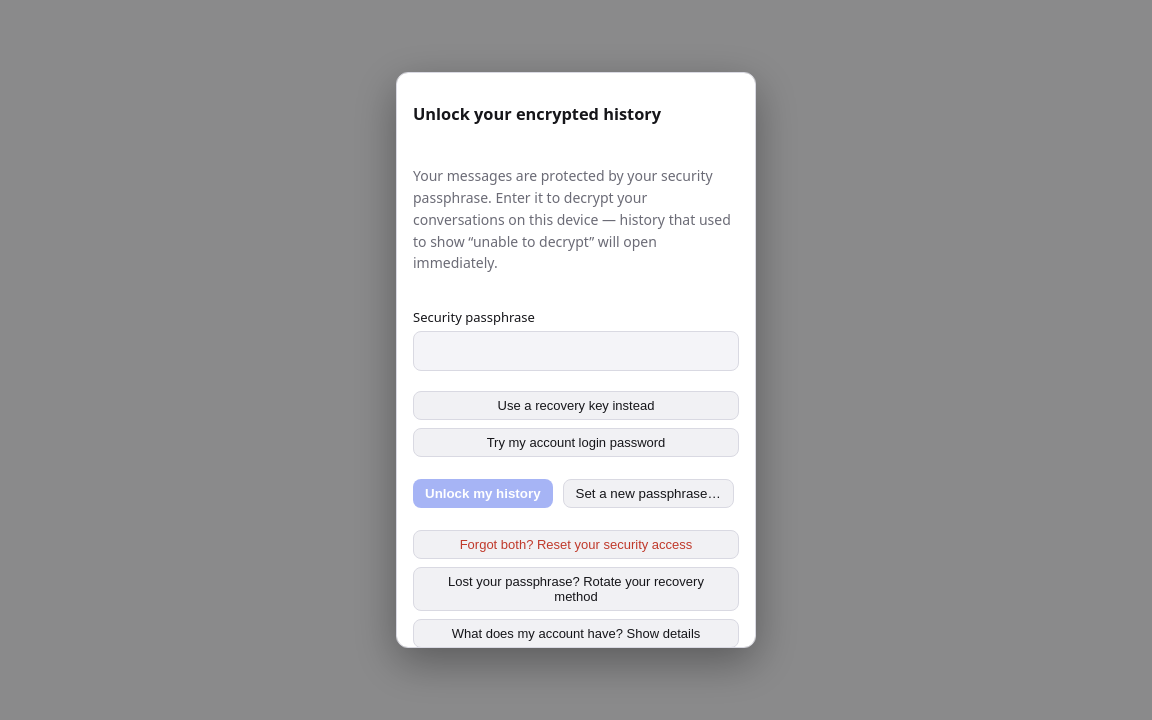
Test: W24 new-passphrase step gating › go is disabled until both fields agree and the passphrase is at least 8 chars
The width and height of the screenshot is (1152, 720).
Click the button with test id "rotate-entry".
click(576, 589)  # box 413,567 -> 739,611
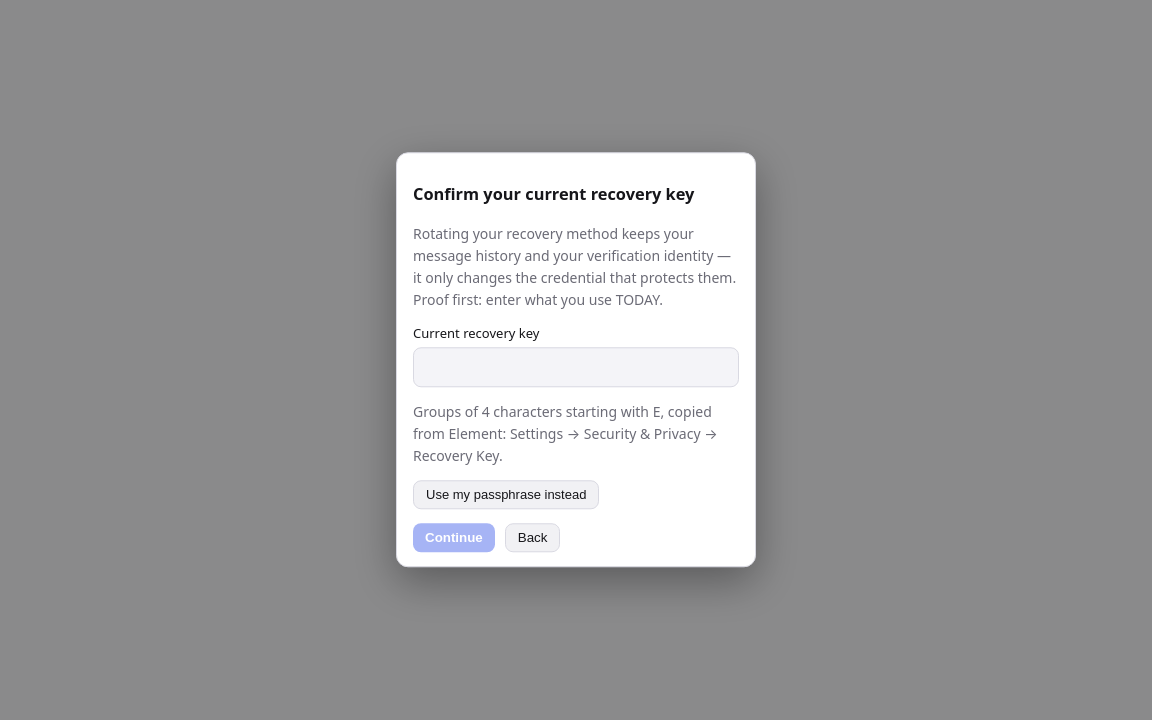
Expected: the element with test id "rotate-prove" is shown, 413,167 -> 739,553
Type "EoJp ABCD EFGH" into the field with test id "rotate-proof".
click(576, 368); type("EoJp ABCD EFGH")  # box 413,347 -> 739,388
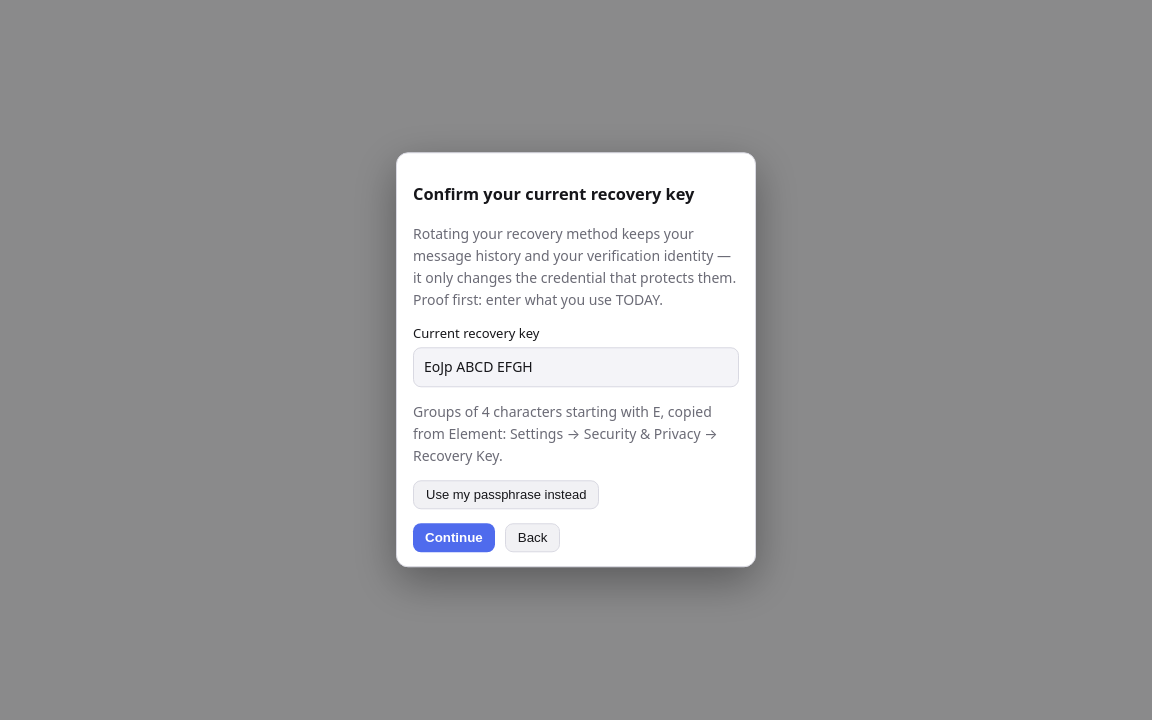
Click the button with test id "rotate-prove-next".
click(454, 538)  # box 413,524 -> 495,553
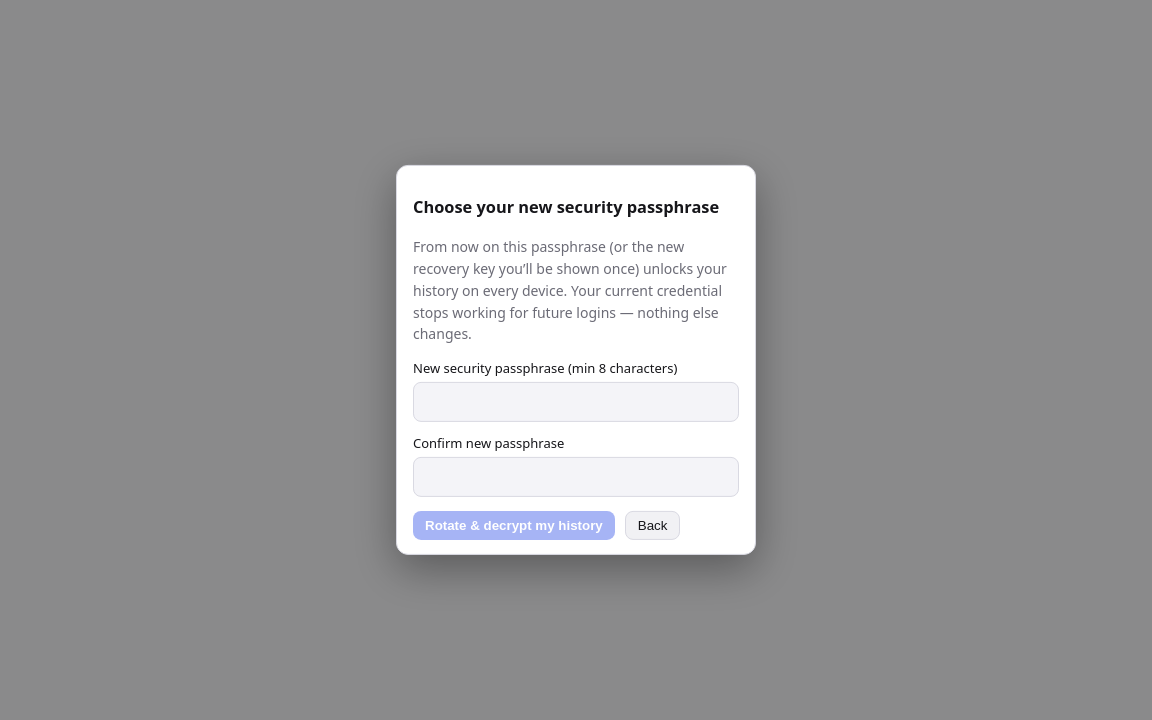
Expected: the element with test id "rotate-passphrase" is shown, 413,180 -> 739,540
Type "abcdefg" into the password field with test id "rotate-pass1".
click(576, 402); type("abcdefg")  # box 413,382 -> 739,422
Type "abcdefg" into the password field with test id "rotate-pass2".
click(576, 477); type("abcdefg")  # box 413,457 -> 739,497
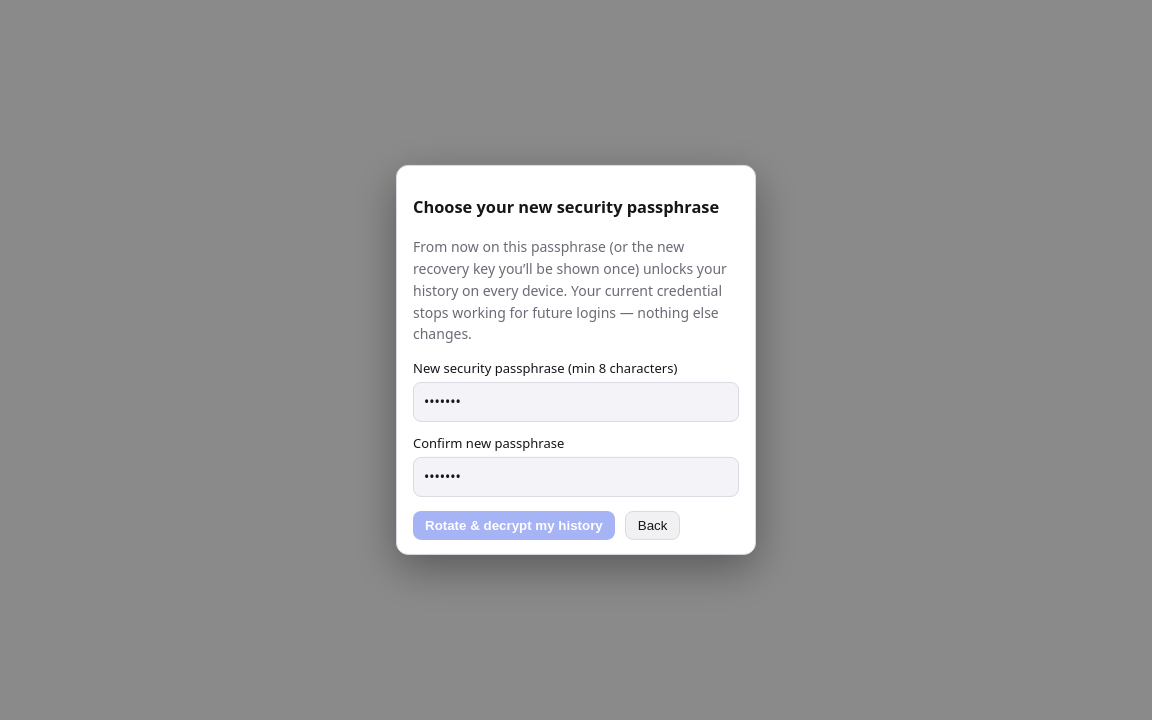
Expected: the button with test id "rotate-go" is disabled, 413,511 -> 615,540
Type "abcdefgh" into the password field with test id "rotate-pass1".
click(576, 402); type("abcdefgh")  # box 413,382 -> 739,422
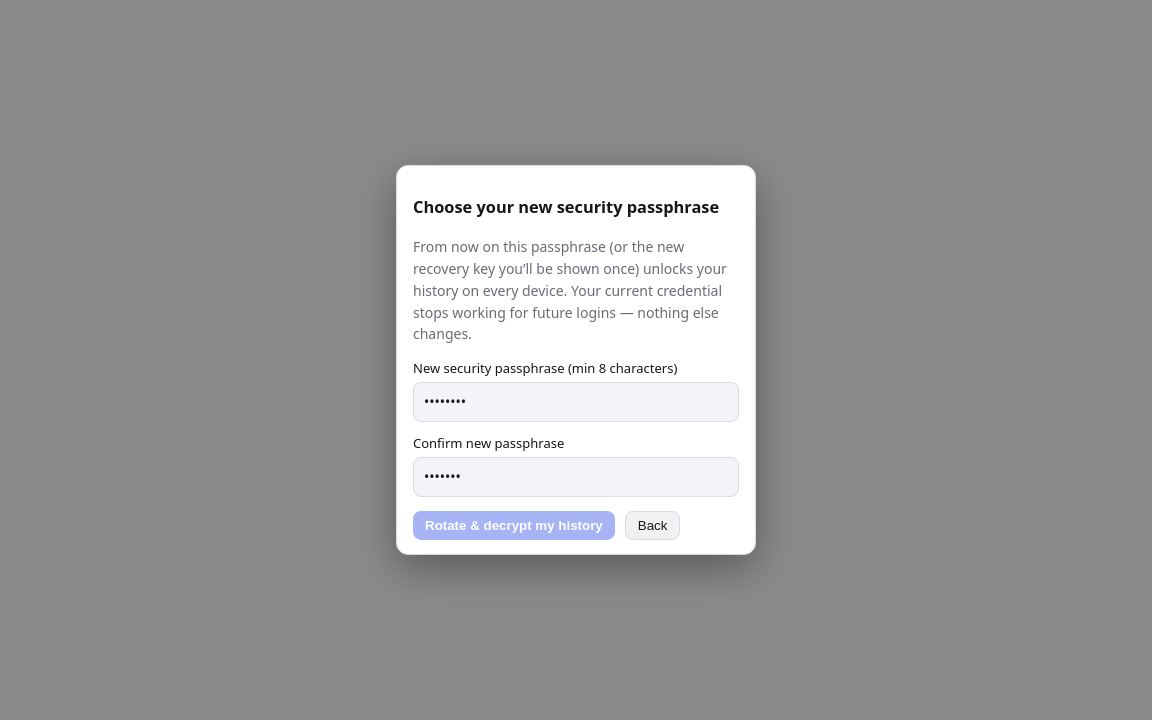
Expected: the button with test id "rotate-go" is disabled, 413,511 -> 615,540
Type "abcdefgh" into the password field with test id "rotate-pass2".
click(576, 477); type("abcdefgh")  # box 413,457 -> 739,497
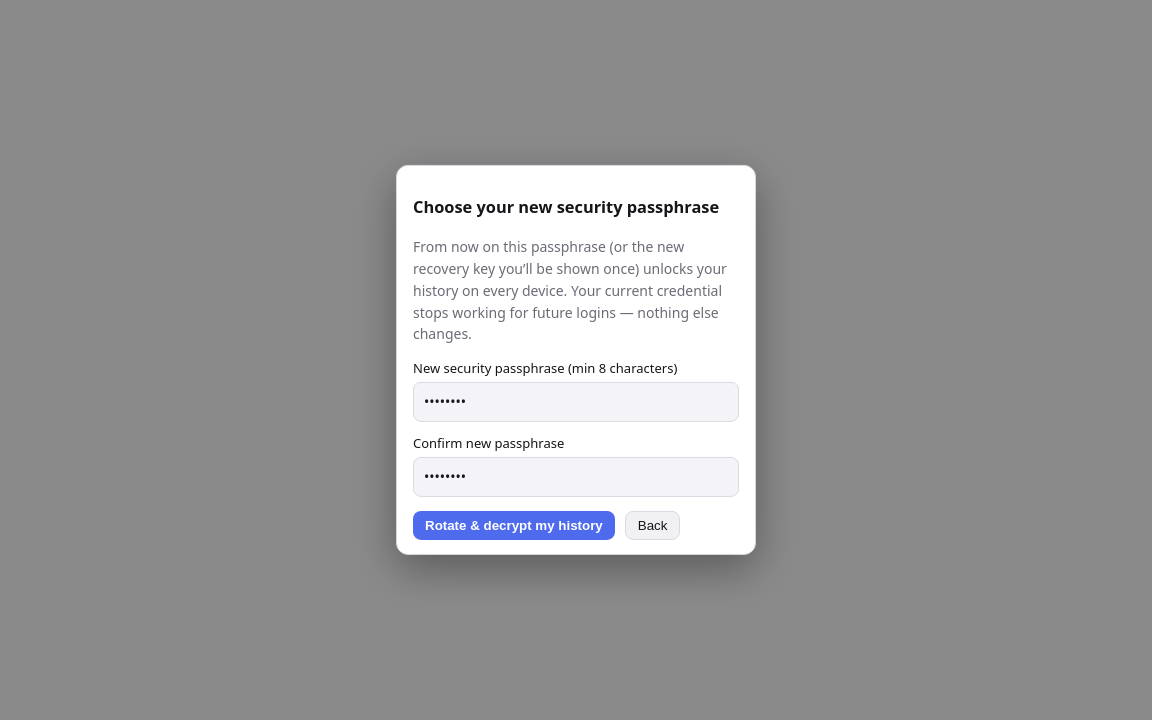
Expected: the button with test id "rotate-go" is enabled, 413,511 -> 615,540
